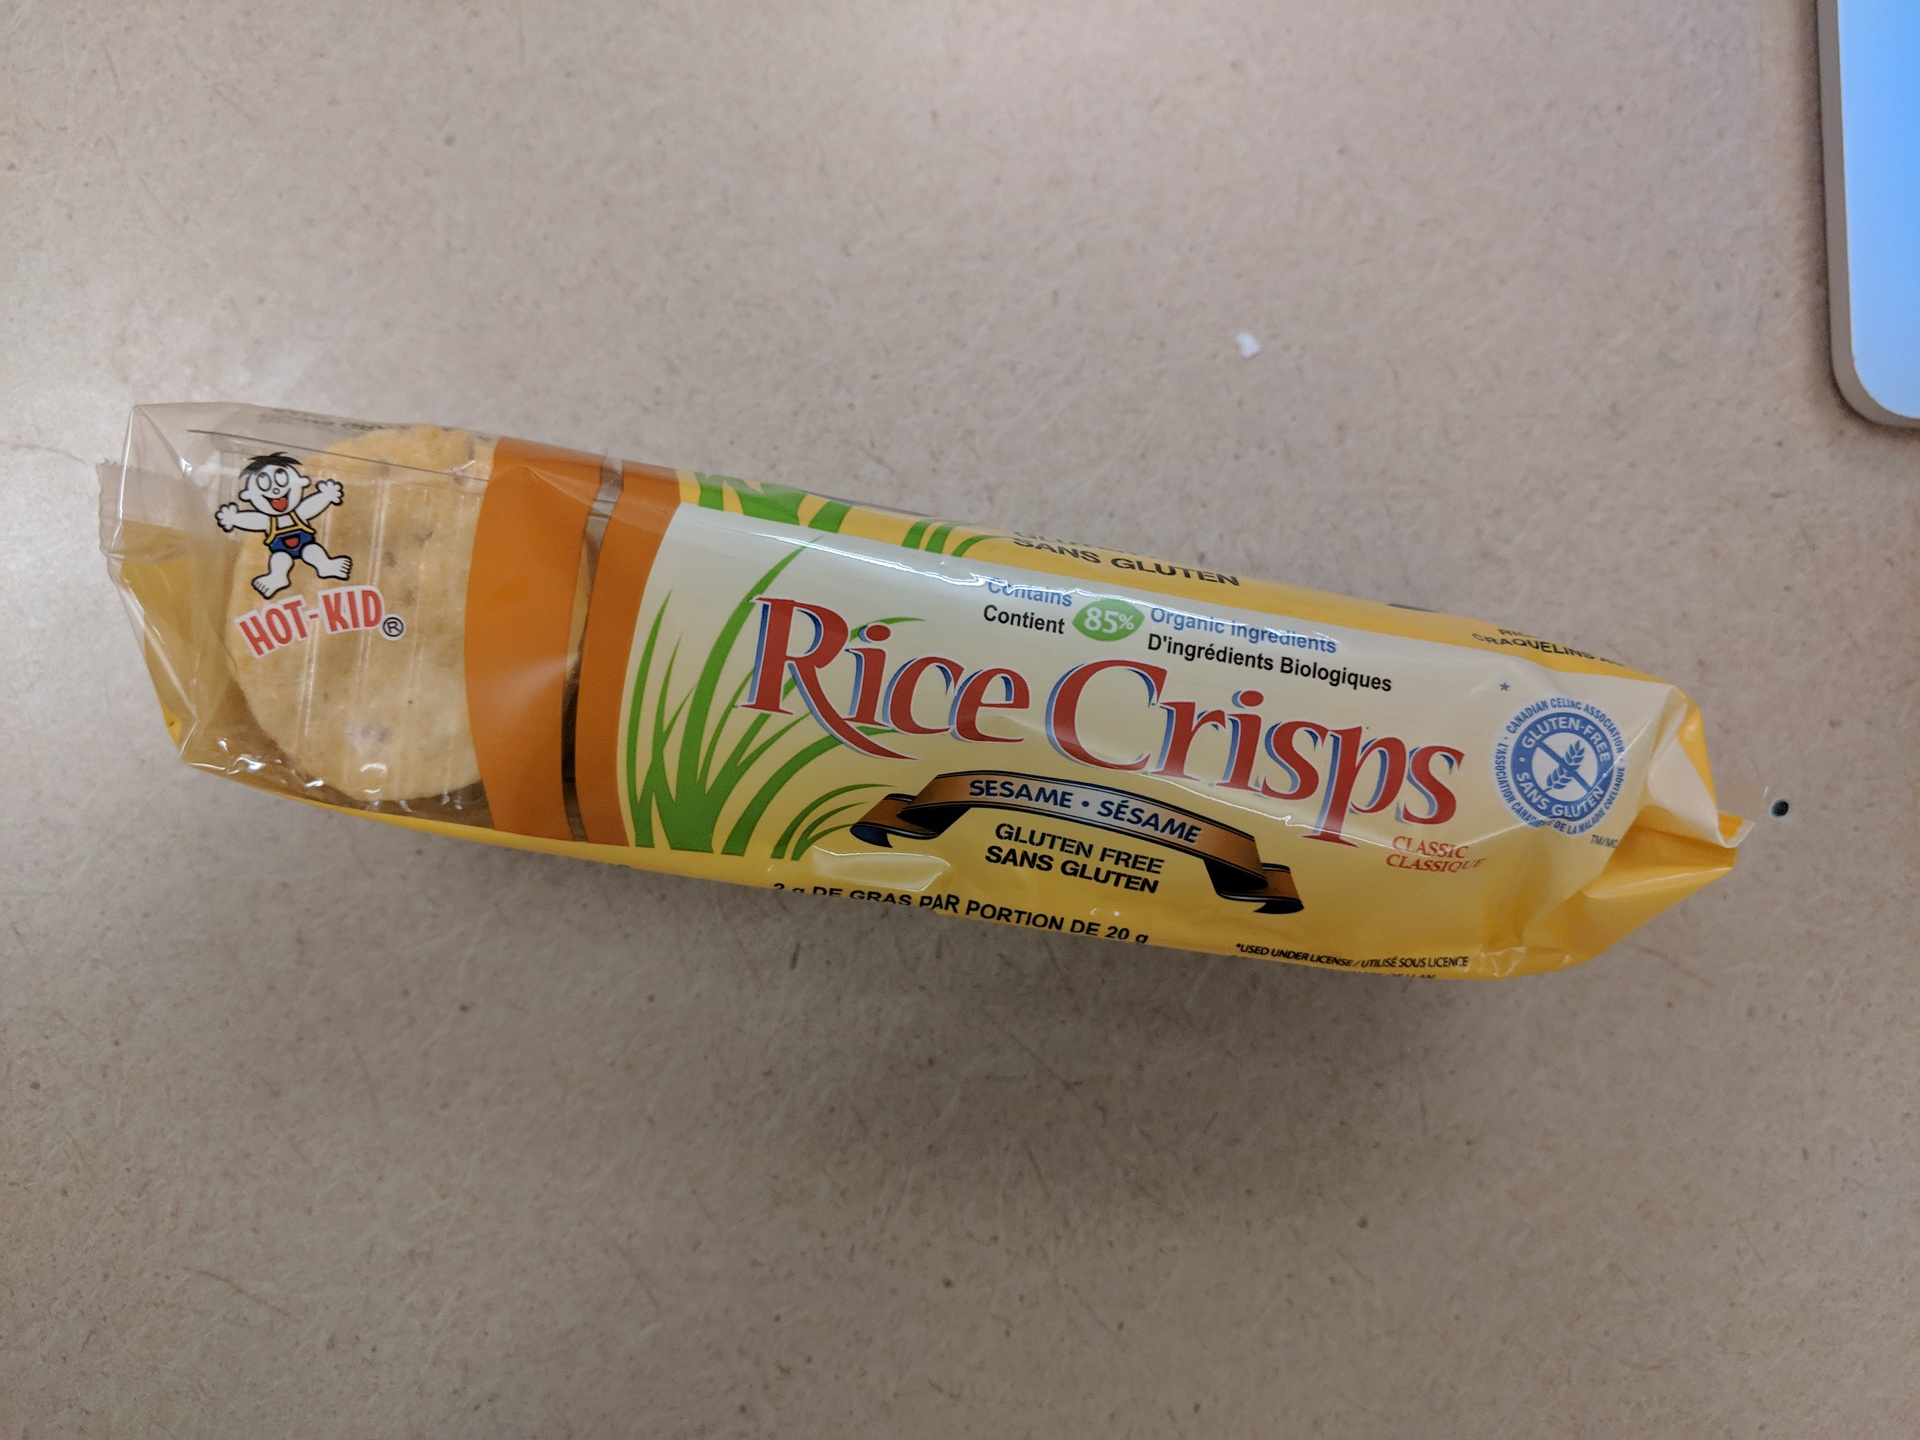hot_kid_rice_crisps_sesame: (162, 456, 1833, 1042)
